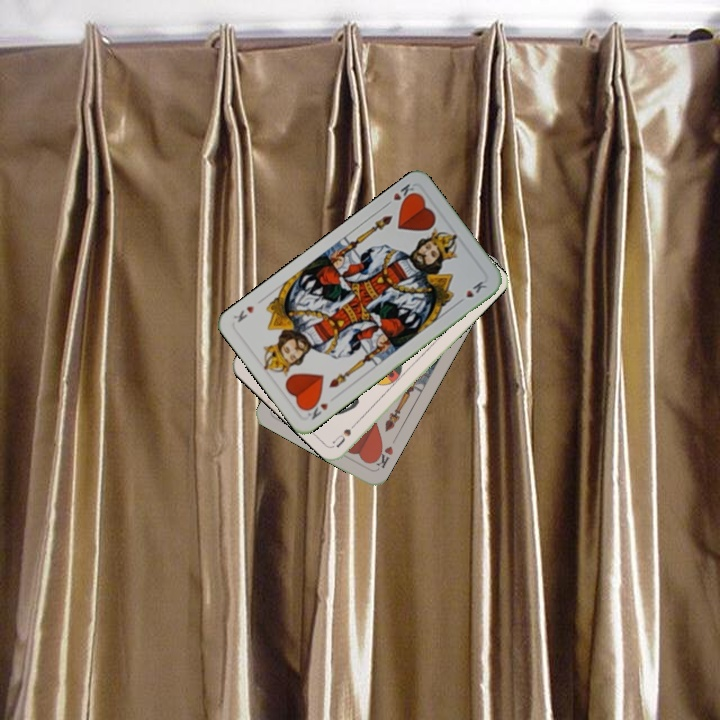HK: (380, 180, 419, 209), (369, 442, 396, 472), (303, 399, 331, 422)
SU: (329, 415, 363, 450)
